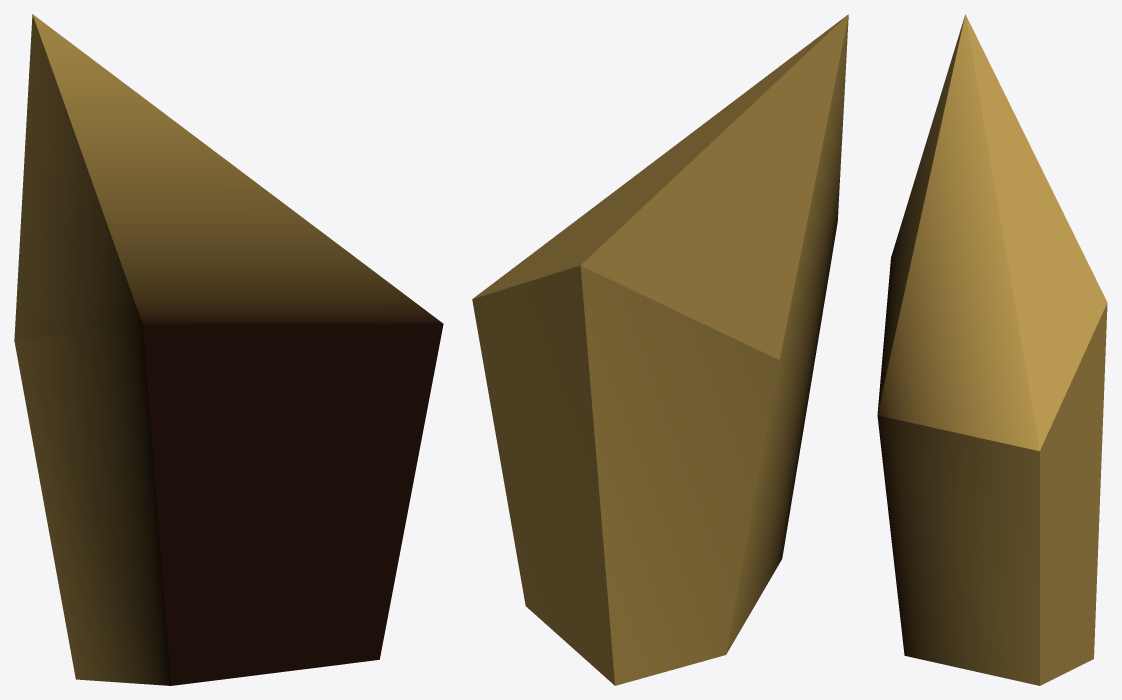
File: fragment.glb
The picture shows the model from 3 angles, left to right: view 1: azimuth 30°, elevation 25°; view 2: azimuth 150°, elevation 25°; view 3: azimuth 270°, elevation 25°; orthographic projection. The views are drawn at different scales.
Visible parts, largest first — view 1: fragment; view 2: fragment; view 3: fragment.
Boxes of the visible parts, <box> form: fragment: <box>14,14,443,685</box>; fragment: <box>472,14,848,685</box>; fragment: <box>877,14,1107,685</box>.
Size of the model in its own units: 0.25 by 0.47 by 0.17.
